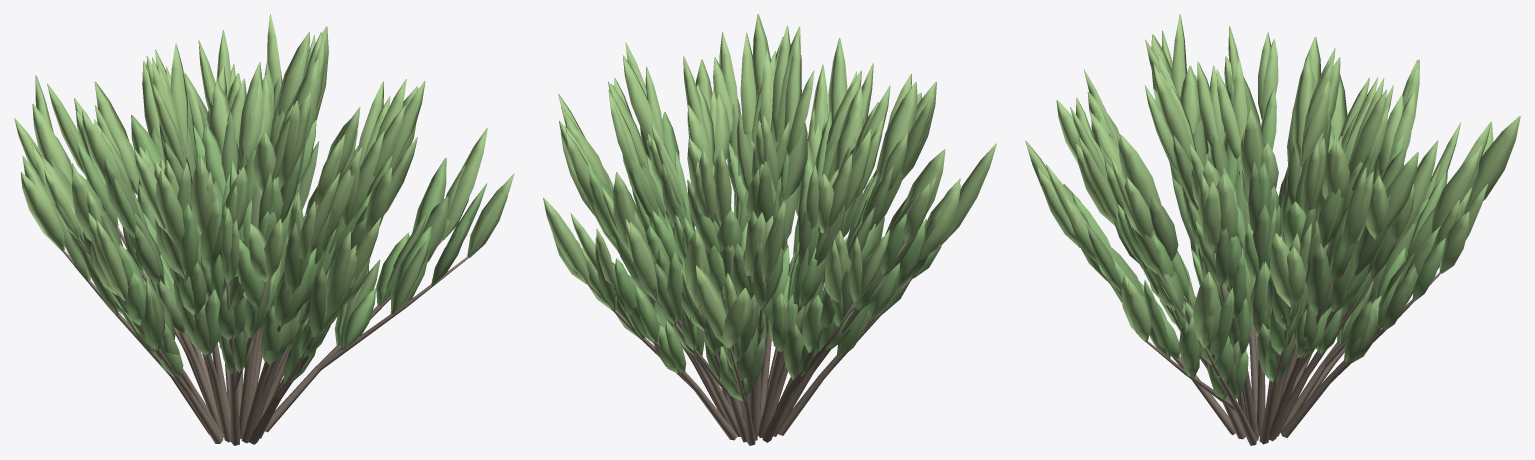
File: chirca_bush_9.glb
3 renders of one model, left to right at view 1: azimuth 30°, elevation 25°; view 2: azimuth 150°, elevation 25°; view 3: azimuth 270°, elevation 25°, orthographic.
Visible parts, largest first — view 1: ChircaFoliageTip, ChircaFoliageDeep, ChircaFoliageMid, ChircaStems; view 2: ChircaFoliageTip, ChircaFoliageMid, ChircaFoliageDeep, ChircaStems; view 3: ChircaFoliageTip, ChircaFoliageDeep, ChircaFoliageMid, ChircaStems.
Part boxes in pixels (x1=…): ChircaFoliageTip: x1=14, y1=14, x2=514, y2=315; ChircaFoliageDeep: x1=44, y1=70, x2=469, y2=383; ChircaFoliageMid: x1=64, y1=62, x2=487, y2=383; ChircaStems: x1=62, y1=167, x2=468, y2=445; ChircaFoliageTip: x1=543, y1=14, x2=996, y2=348; ChircaFoliageMid: x1=581, y1=110, x2=941, y2=400; ChircaFoliageDeep: x1=591, y1=98, x2=941, y2=400; ChircaStems: x1=587, y1=141, x2=940, y2=445; ChircaFoliageTip: x1=1025, y1=14, x2=1520, y2=348; ChircaFoliageDeep: x1=1063, y1=71, x2=1463, y2=399; ChircaFoliageMid: x1=1072, y1=87, x2=1446, y2=399; ChircaStems: x1=1080, y1=166, x2=1463, y2=445.
Size of the model in its own units: 2.18 by 1.84 by 2.21.
